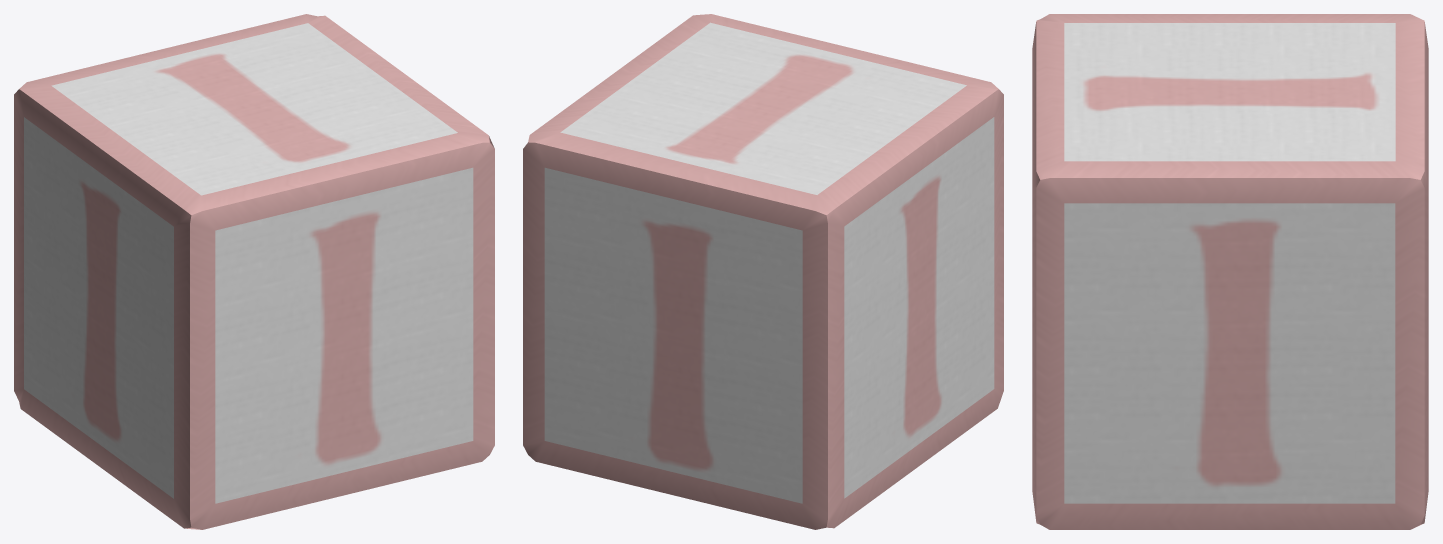
File: BlockI.fbx
The picture shows the model from 3 angles, left to right: view 1: azimuth 30°, elevation 25°; view 2: azimuth 150°, elevation 25°; view 3: azimuth 270°, elevation 25°; orthographic projection. The views are drawn at different scales.
Visible parts, largest first — view 1: pCube1; view 2: pCube1; view 3: pCube1.
Boxes of the visible parts, bbox=[...] form: pCube1: bbox=[14, 14, 494, 529]; pCube1: bbox=[523, 14, 1003, 529]; pCube1: bbox=[1032, 14, 1428, 529].
Bounding box in the file's own units: 9 × 9 × 9.
